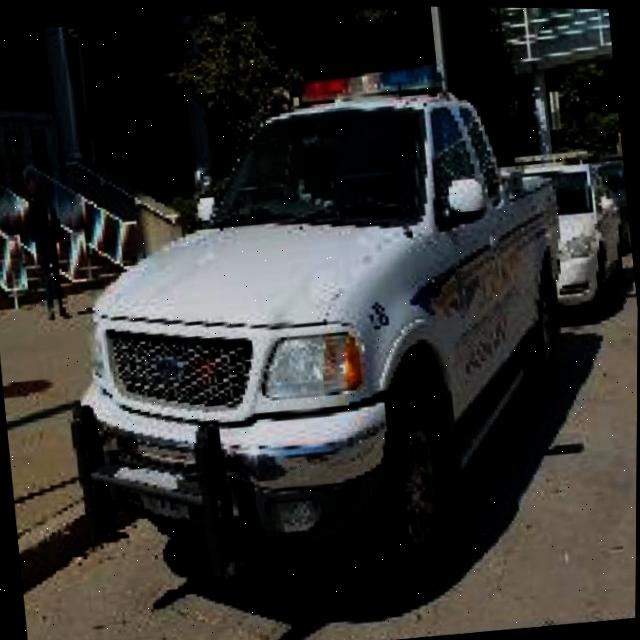emergency: (41, 47, 601, 621)
